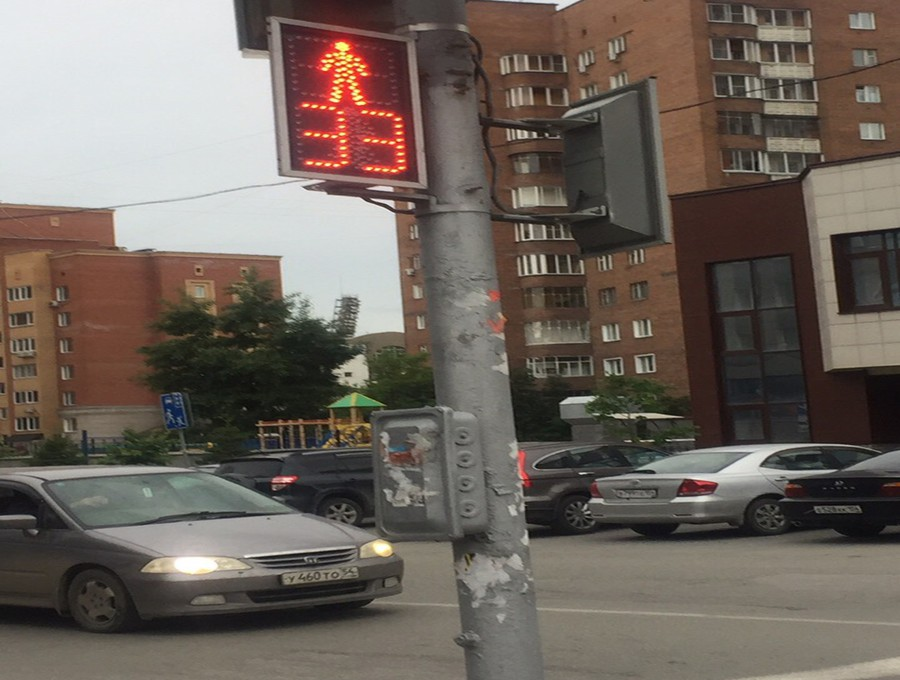Traffic Light-red: (273, 16, 424, 191)
